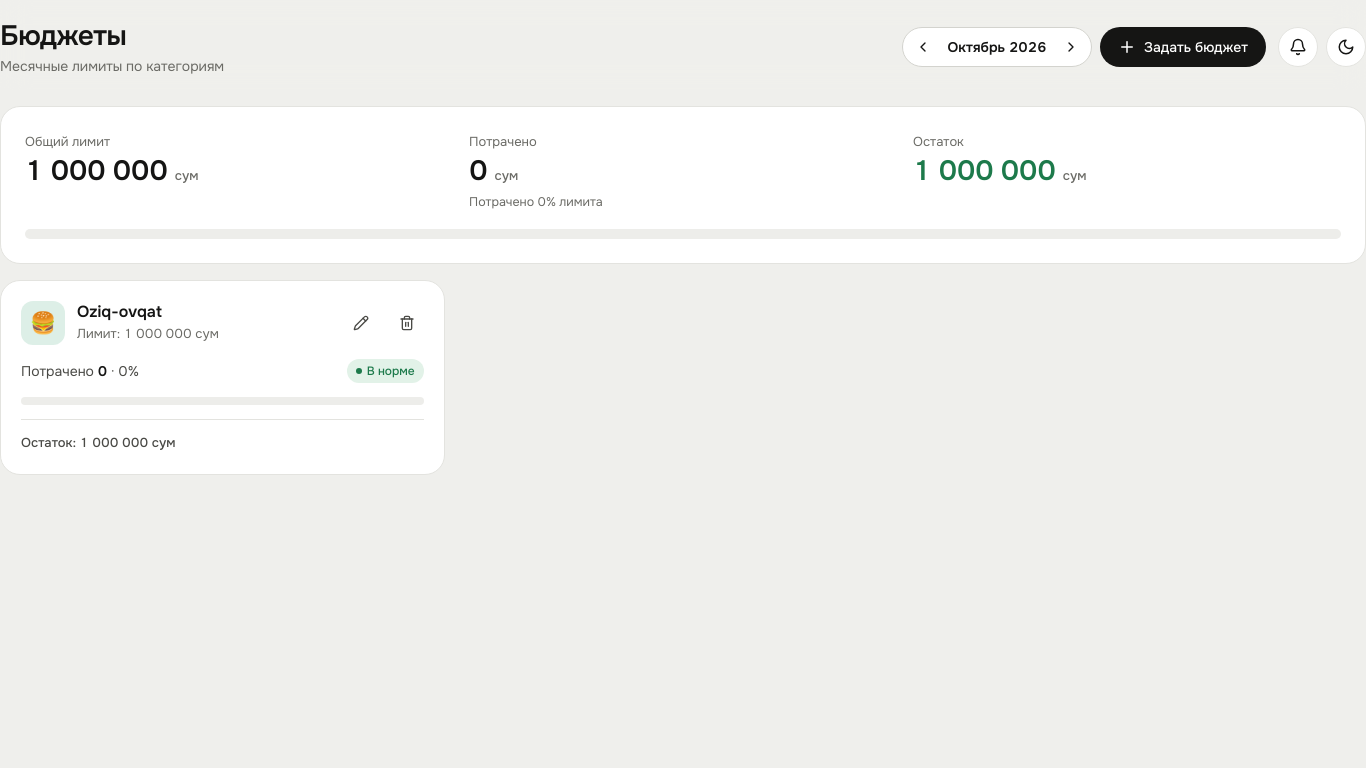
BudgetModal in Russian › leaves no Uzbek in the form
Step 1. Click the button "Задать бюджет" → coordinates (1183, 47), box [1100,27,1266,67]
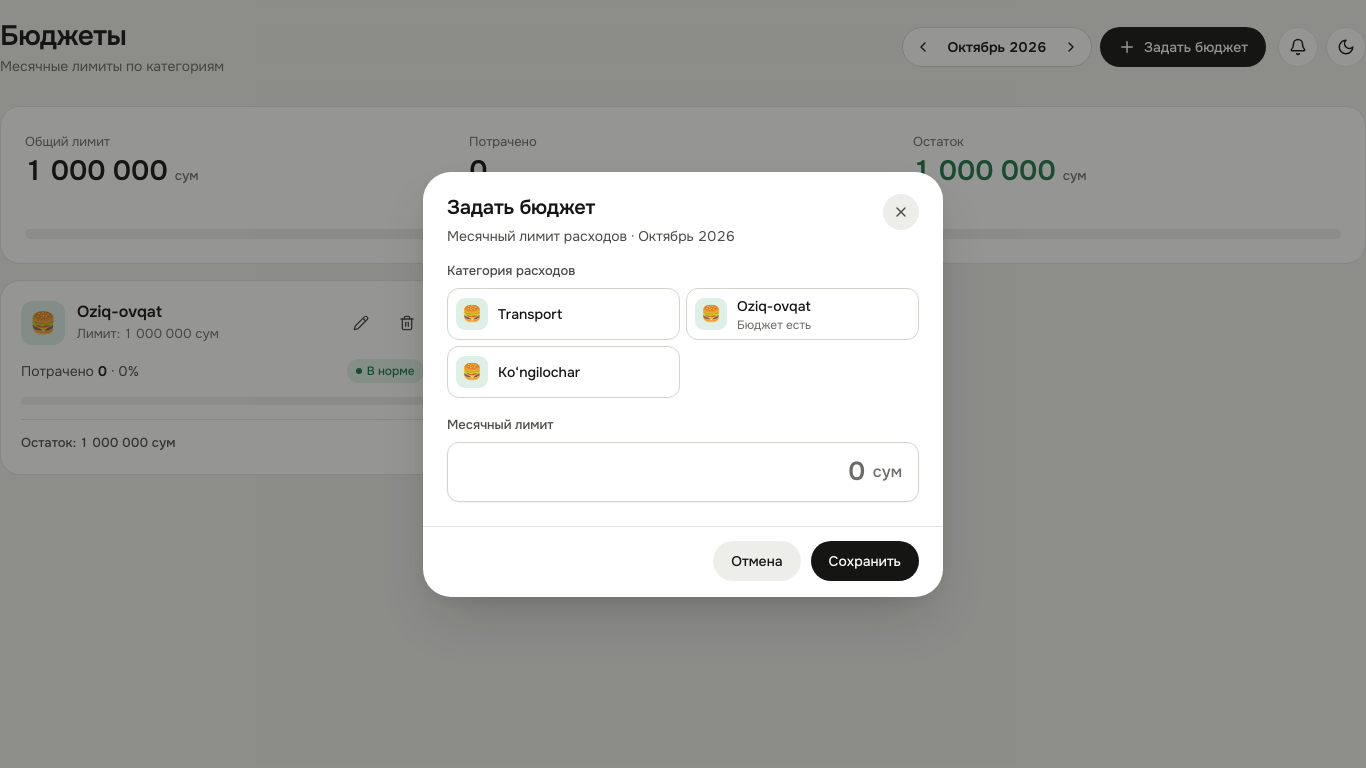
expect the radio button labelled "🍔 Transport" is shown: met, box [447,288,680,340]
